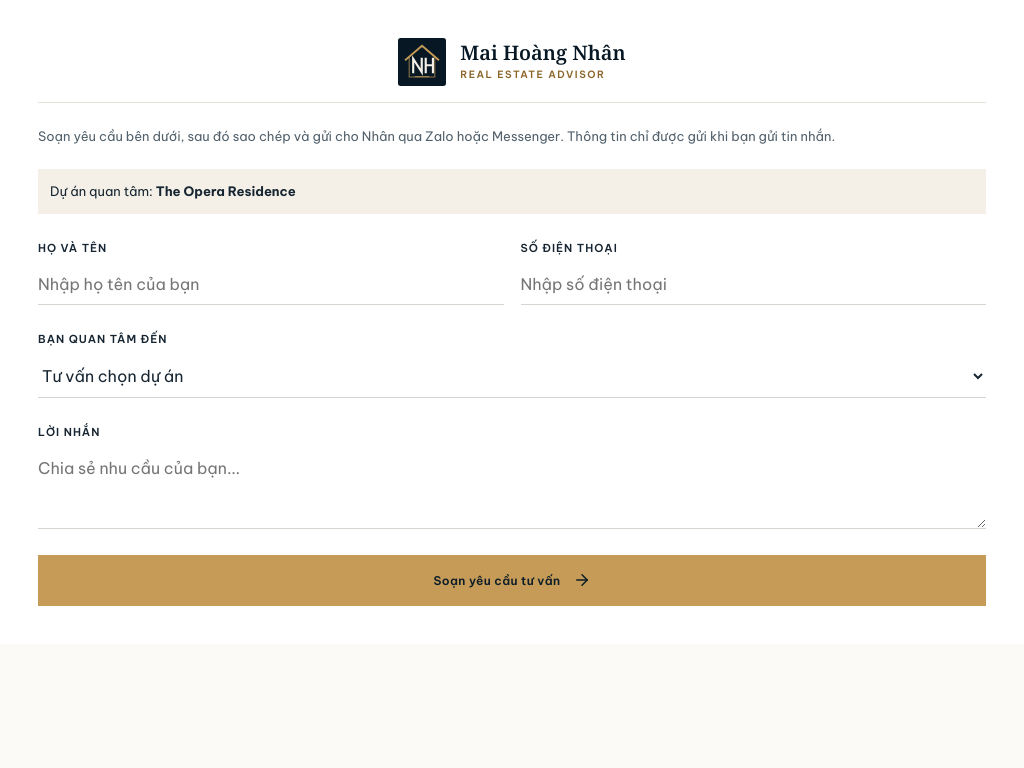
Scenario: contact flow › prepares a draft, explicitly says it is unsent, and copies only on request
Type "Nguyễn An" into the field labelled "Họ và tên". click: [271, 284]
box: x1=38 y1=264 x2=504 y2=305
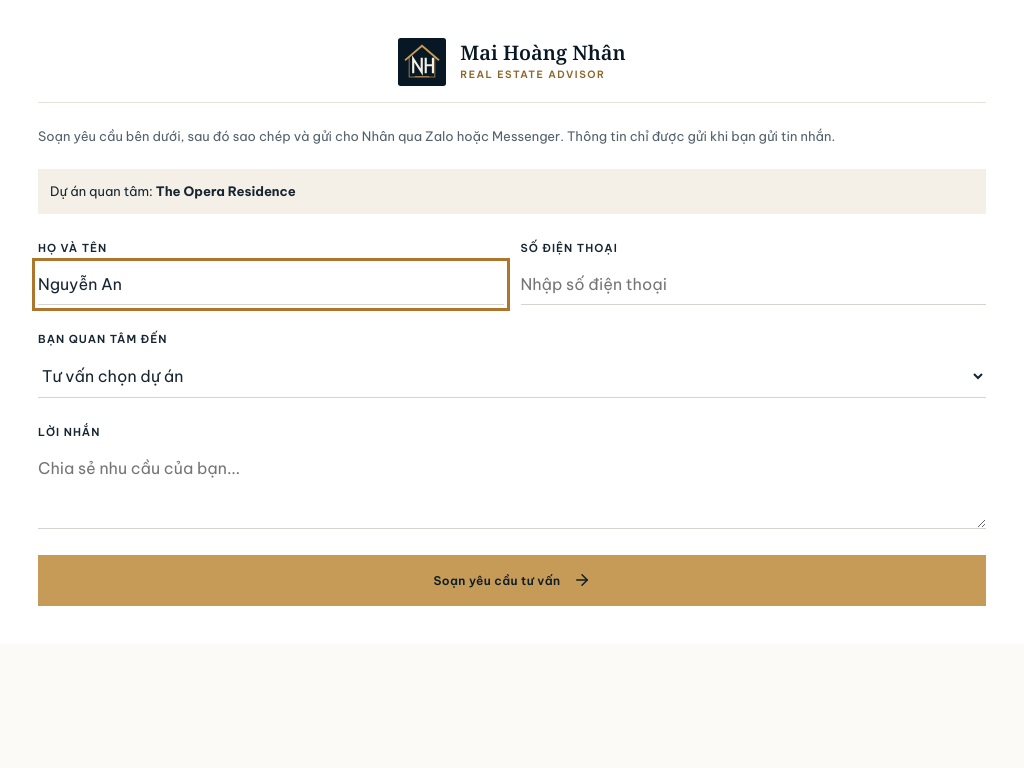
Type "+84 909 467 505" into the field labelled "Số điện thoại". click: [753, 284]
box: x1=520 y1=264 x2=986 y2=305
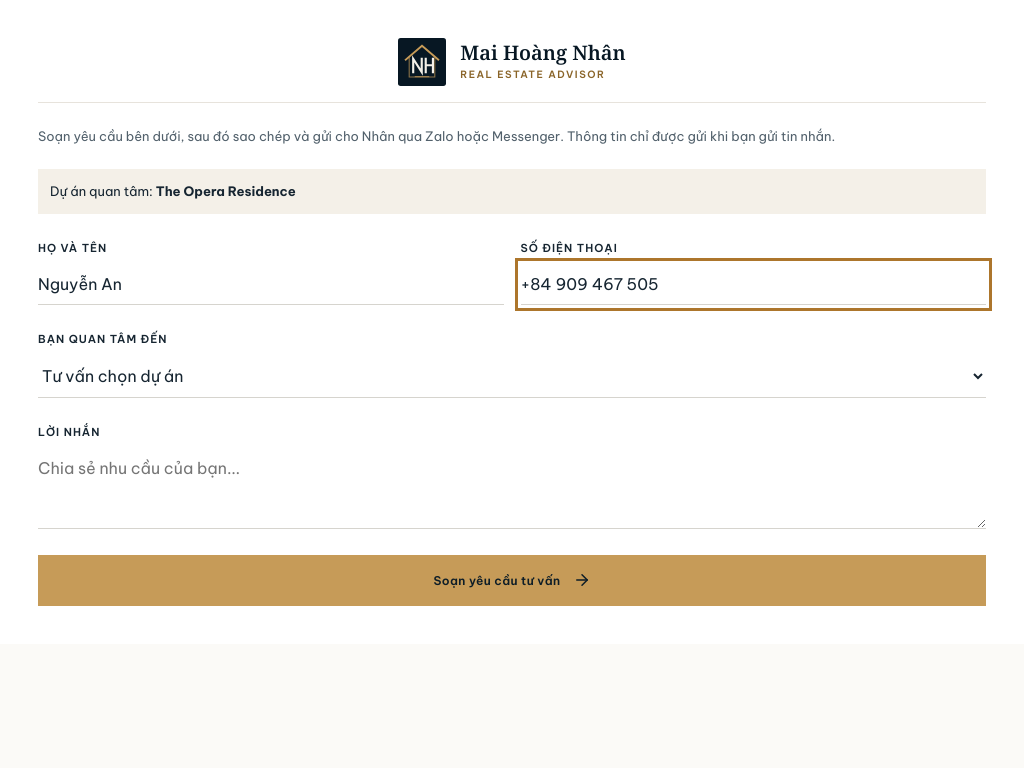
Click the button "Soạn yêu cầu tư vấn". click: [512, 580]
box: x1=38 y1=555 x2=986 y2=606
(page scrolled)
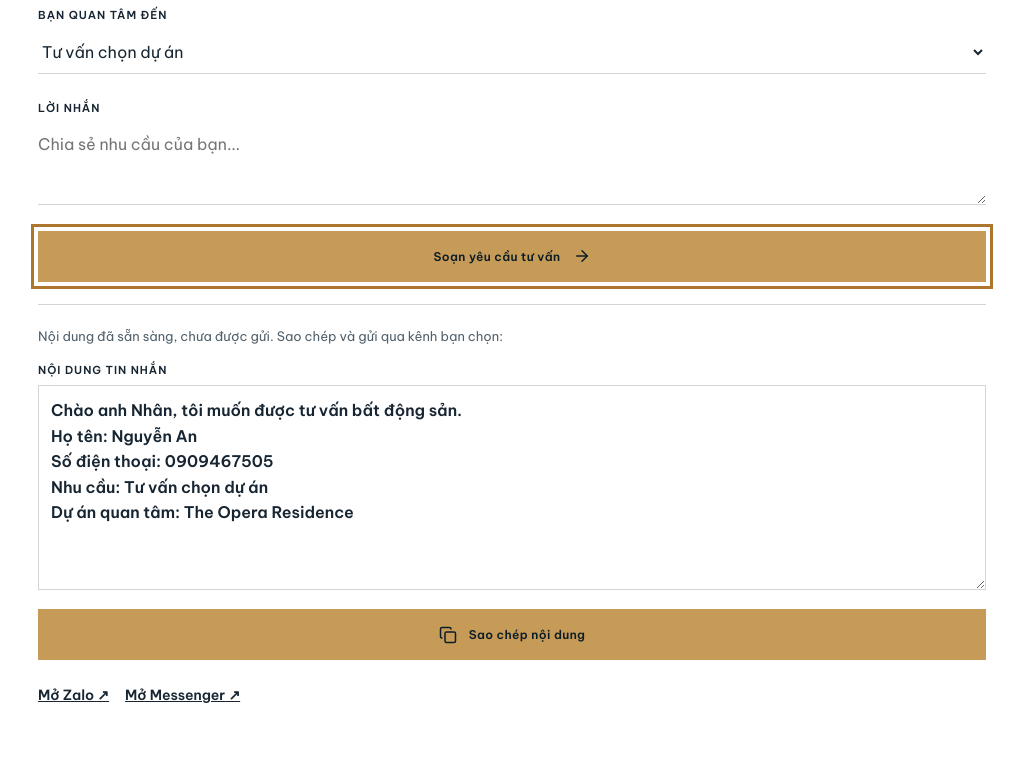
Expected: the text "Nội dung đã sẵn sàng, chưa được gửi. Sao chép và gửi qua kênh bạn chọn:" is shown, x1=38 y1=328 x2=503 y2=344
Click the button "Sao chép nội dung". click: [512, 635]
box: x1=38 y1=609 x2=986 y2=660
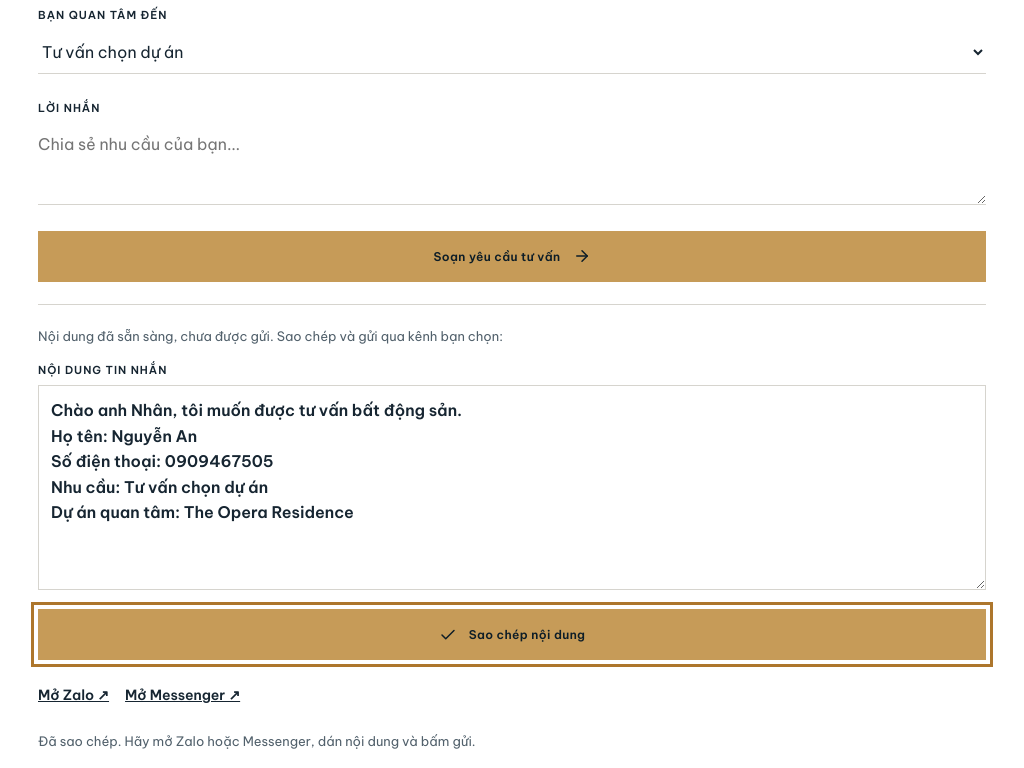
Expected: the text "Đã sao chép. Hãy mở Zalo hoặc Messenger, dán nội dung và bấm gửi." is shown, x1=38 y1=733 x2=476 y2=749
